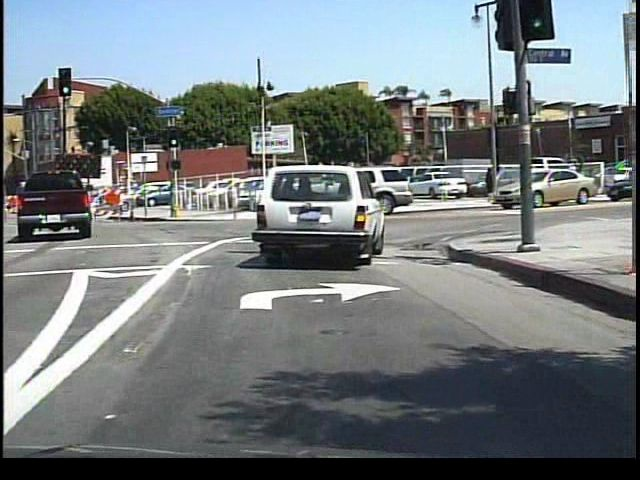person: (482, 161, 493, 192)
